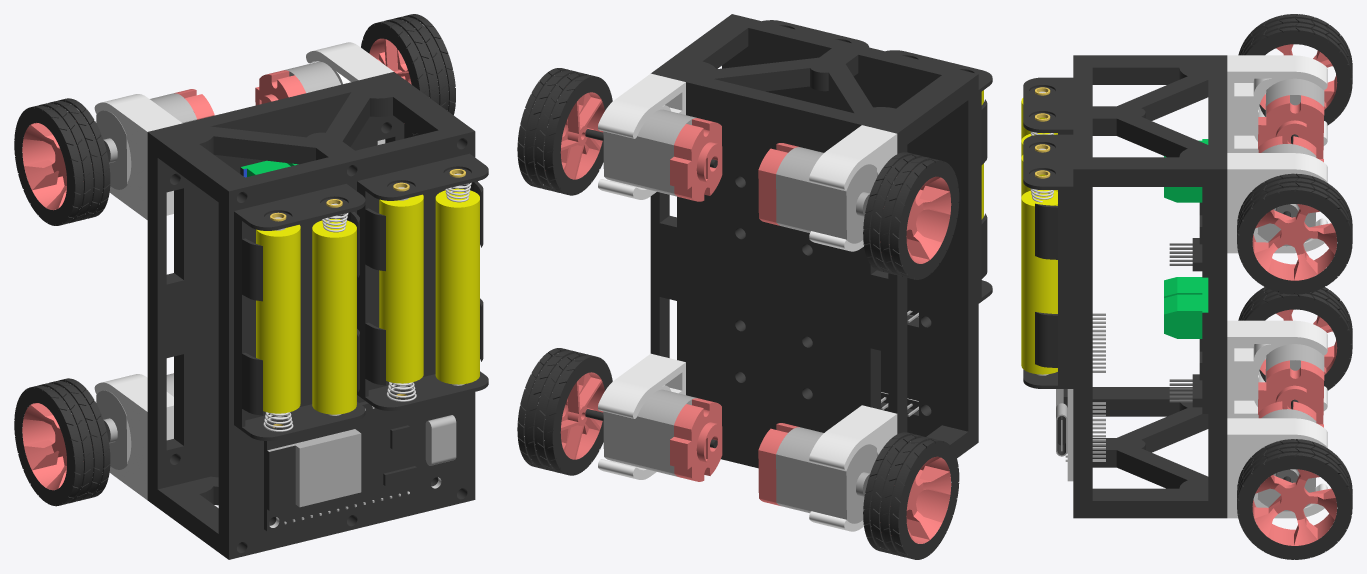
Rendered from carAssemblyV1.gltf.
The picture shows the model from 3 angles, left to right: view 1: azimuth 30°, elevation 25°; view 2: azimuth 150°, elevation 25°; view 3: azimuth 270°, elevation 25°; orthographic projection. The views are drawn at different scales.
Parts seen in each view (by area): view 1: basePlate-3, carALL, 2batteryPack-1, topPlate-1, esp32controller-2, wheel-1, wheel-2, motorHolder-5, motorHolder-4, smallDCMotor-2, motorHolder-7, smallDCMotor-1; view 2: basePlate-3, carALL, topPlate-1, wheel-1, wheel-2, smallDCMotor-1, smallDCMotor-2, motorHolder-6, motorHolder-7, motorHolder-4, motorHolder-5, 2batteryPack-1; view 3: carALL, basePlate-3, topPlate-1, motorHolder-4, motorHolder-5, wheel-2, wheel-1, 2DCMotorBridge-5, motorHolder-6, motorHolder-7, smallDCMotor-1, smallDCMotor-2 (+2 smaller).
Part boxes in pixels (x1=…): basePlate-3: x1=147, y1=72, x2=464, y2=551; carALL: x1=240, y1=14, x2=488, y2=410; 2batteryPack-1: x1=234, y1=183, x2=365, y2=440; topPlate-1: x1=218, y1=124, x2=475, y2=559; esp32controller-2: x1=264, y1=397, x2=456, y2=531; wheel-1: x1=14, y1=378, x2=110, y2=506; wheel-2: x1=14, y1=98, x2=110, y2=225; motorHolder-5: x1=94, y1=94, x2=182, y2=219; motorHolder-4: x1=94, y1=374, x2=173, y2=500; smallDCMotor-2: x1=96, y1=89, x2=214, y2=189; motorHolder-7: x1=306, y1=42, x2=393, y2=144; smallDCMotor-1: x1=96, y1=373, x2=173, y2=469; basePlate-3: x1=650, y1=21, x2=968, y2=468; carALL: x1=517, y1=20, x2=868, y2=481; topPlate-1: x1=722, y1=14, x2=978, y2=449; wheel-1: x1=863, y1=432, x2=959, y2=559; wheel-2: x1=863, y1=152, x2=959, y2=279; smallDCMotor-1: x1=758, y1=423, x2=876, y2=523; smallDCMotor-2: x1=758, y1=143, x2=876, y2=243; motorHolder-6: x1=598, y1=353, x2=685, y2=479; motorHolder-7: x1=598, y1=73, x2=685, y2=199; motorHolder-4: x1=809, y1=405, x2=897, y2=531; motorHolder-5: x1=809, y1=125, x2=897, y2=251; 2batteryPack-1: x1=885, y1=50, x2=992, y2=303; carALL: x1=1021, y1=134, x2=1352, y2=559; basePlate-3: x1=1092, y1=55, x2=1227, y2=518; topPlate-1: x1=1073, y1=55, x2=1092, y2=518; motorHolder-4: x1=1227, y1=320, x2=1327, y2=418; motorHolder-5: x1=1227, y1=55, x2=1327, y2=152; wheel-2: x1=1238, y1=14, x2=1352, y2=125; wheel-1: x1=1238, y1=287, x2=1352, y2=390; 2DCMotorBridge-5: x1=1164, y1=277, x2=1208, y2=413; motorHolder-6: x1=1227, y1=418, x2=1327, y2=518; motorHolder-7: x1=1227, y1=153, x2=1327, y2=253; smallDCMotor-1: x1=1258, y1=344, x2=1324, y2=424; smallDCMotor-2: x1=1258, y1=78, x2=1324, y2=158.
Bounding box in the file's own units: 0.1082 × 0.106 × 0.086.
